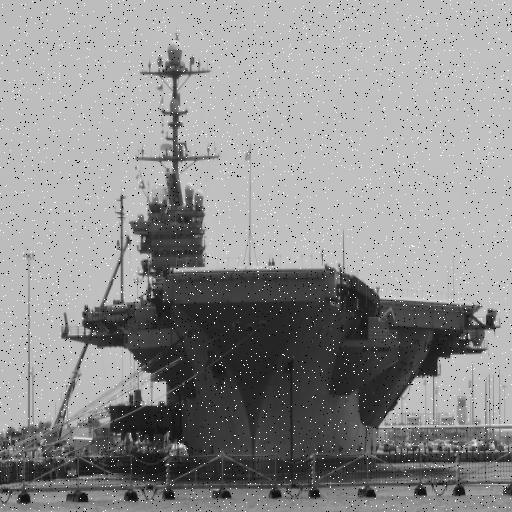Portanaves: (57, 29, 505, 483)
